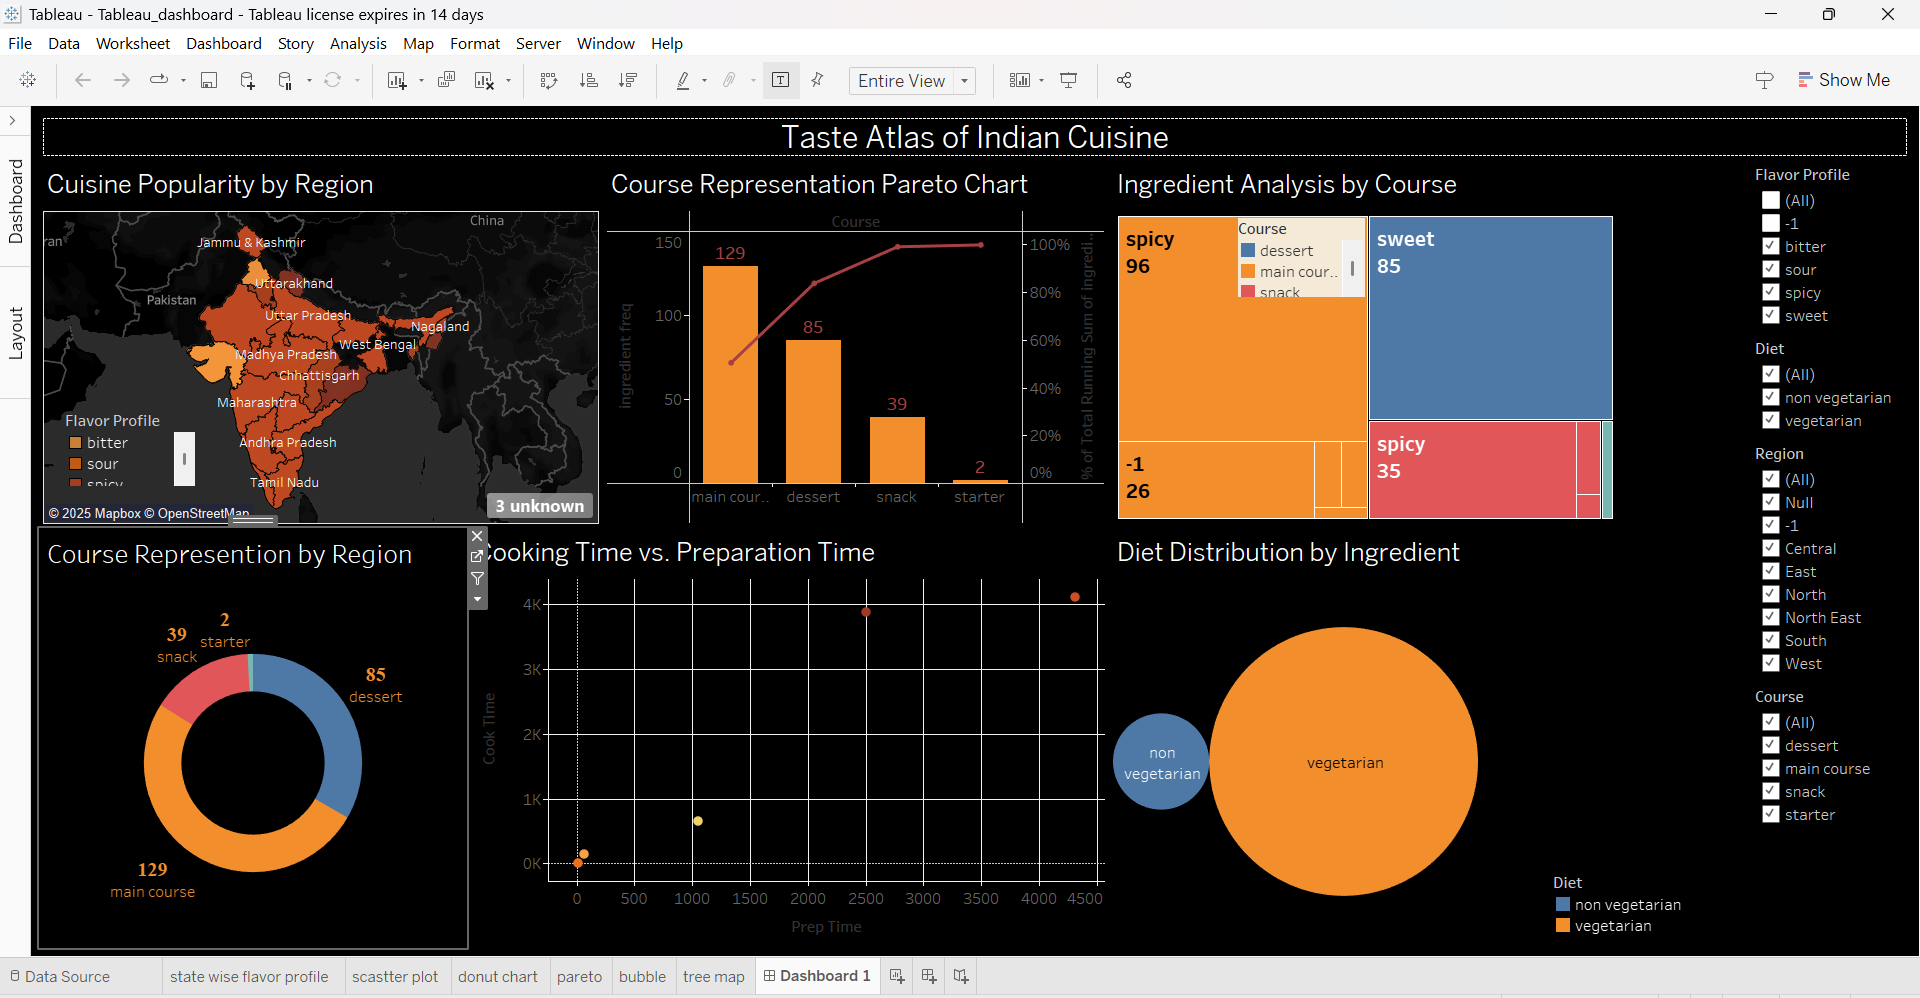

This screenshot's page, from the dashboard's own definition file:
{"tool":"tableau","page":{"name":"Dashboard 1","canvas":[1000,1000],"units":"permille","ordinal":0},"visuals":[{"type":"title","box":[4.2,9.4,991.5,54.1]},{"type":"worksheet","title":"state wise flavor profile","mark":"Multipolygon","box":[4.2,63.5,298.8,433]},{"type":"worksheet","title":"pareto","mark":"Automatic","rows":["Calculation_1065945752754028545","Calculation_1065945752754028545"],"cols":["course"],"box":[303,63.5,267.9,433]},{"type":"worksheet","title":"tree map","mark":"Automatic","box":[570.9,63.5,340.1,433]},{"type":"filter","title":"state wise flavor profile","param":"[federated.0xpjygy1fsuv4t1gyufgb0oote20].[none:flavor_profile:nk]","box":[911,63.5,84.8,204.5]},{"type":"legend","title":"donut chart","param":"[federated.0xpjygy1fsuv4t1gyufgb0oote20].[none:course:nk]","box":[639.3,131.6,67.3,92.8]},{"type":"filter","title":"scastter plot","param":"[federated.0xpjygy1fsuv4t1gyufgb0oote20].[none:diet:nk]","box":[911,267.9,84.8,123.4]},{"type":"legend","title":"state wise flavor profile","param":"[federated.0xpjygy1fsuv4t1gyufgb0oote20].[none:flavor_profile:nk]","box":[18.1,357.2,70,89.3]},{"type":"filter","title":"scastter plot","param":"[federated.0xpjygy1fsuv4t1gyufgb0oote20].[none:region:nk]","box":[911,391.3,84.8,285.6]},{"type":"worksheet","title":"donut chart","mark":"Pie","rows":["Calculation_1065945752756617218","Calculation_1065945752756617218"],"box":[4.2,496.5,226.7,494.1]},{"type":"worksheet","title":"scastter plot","mark":"Automatic","rows":["cook_time"],"cols":["prep_time"],"box":[230.9,496.5,340,494.1]},{"type":"worksheet","title":"bubble","mark":"Circle","box":[570.9,496.5,340.1,494.1]},{"type":"filter","title":"bubble","param":"[federated.0xpjygy1fsuv4t1gyufgb0oote20].[none:course:nk]","box":[911,676.8,84.8,177.4]},{"type":"legend","title":"bubble","param":"[federated.0xpjygy1fsuv4t1gyufgb0oote20].[none:diet:nk]","box":[806.3,901.3,84.5,75.2]}]}

Visuals, with their boxes on the dashboard's canvas, which has no fixed pixel size, in thousandths of its width and height (x1, y1, x2, y2). These are canvas units, not pixel positions in the 1920x998 screenshot, which may show the page scaled, cropped or inside an application window:
title: crop(4, 9, 996, 64)
"state wise flavor profile" worksheet (Multipolygon marks): crop(4, 64, 303, 496)
"pareto" worksheet: crop(303, 64, 571, 496)
"tree map" worksheet: crop(571, 64, 911, 496)
"state wise flavor profile" filter: crop(911, 64, 996, 268)
"donut chart" legend: crop(639, 132, 707, 224)
"scastter plot" filter: crop(911, 268, 996, 391)
"state wise flavor profile" legend: crop(18, 357, 88, 446)
"scastter plot" filter: crop(911, 391, 996, 677)
"donut chart" worksheet (Pie marks): crop(4, 496, 231, 991)
"scastter plot" worksheet: crop(231, 496, 571, 991)
"bubble" worksheet (Circle marks): crop(571, 496, 911, 991)
"bubble" filter: crop(911, 677, 996, 854)
"bubble" legend: crop(806, 901, 891, 976)
